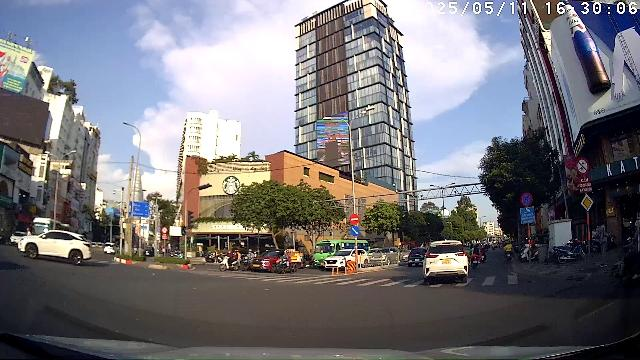102-cam-di-nguoc-chieu: (349, 213, 359, 225)
130-cam-dung-va-do-xe: (520, 192, 533, 206)
302a-huong-phai-di-vong-chuong-ngai-vat-1: (350, 225, 360, 236)
